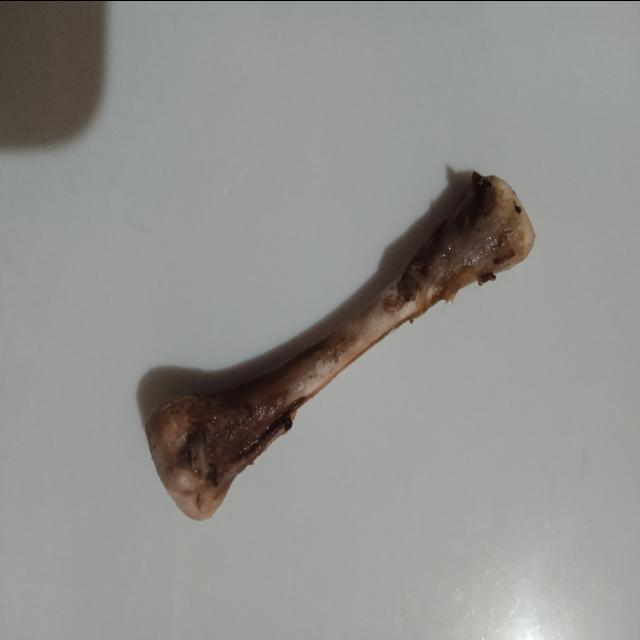bone: (141, 163, 542, 525)
